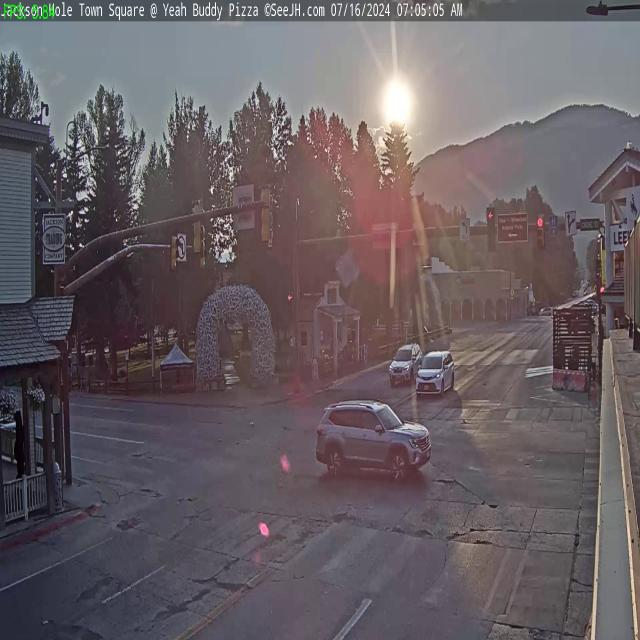minivan: (416, 349, 454, 396)
suv: (314, 397, 432, 487), (392, 342, 418, 389)
traffic light: (260, 184, 274, 246), (191, 200, 203, 256), (487, 208, 496, 252), (171, 230, 179, 272), (536, 215, 545, 248)
